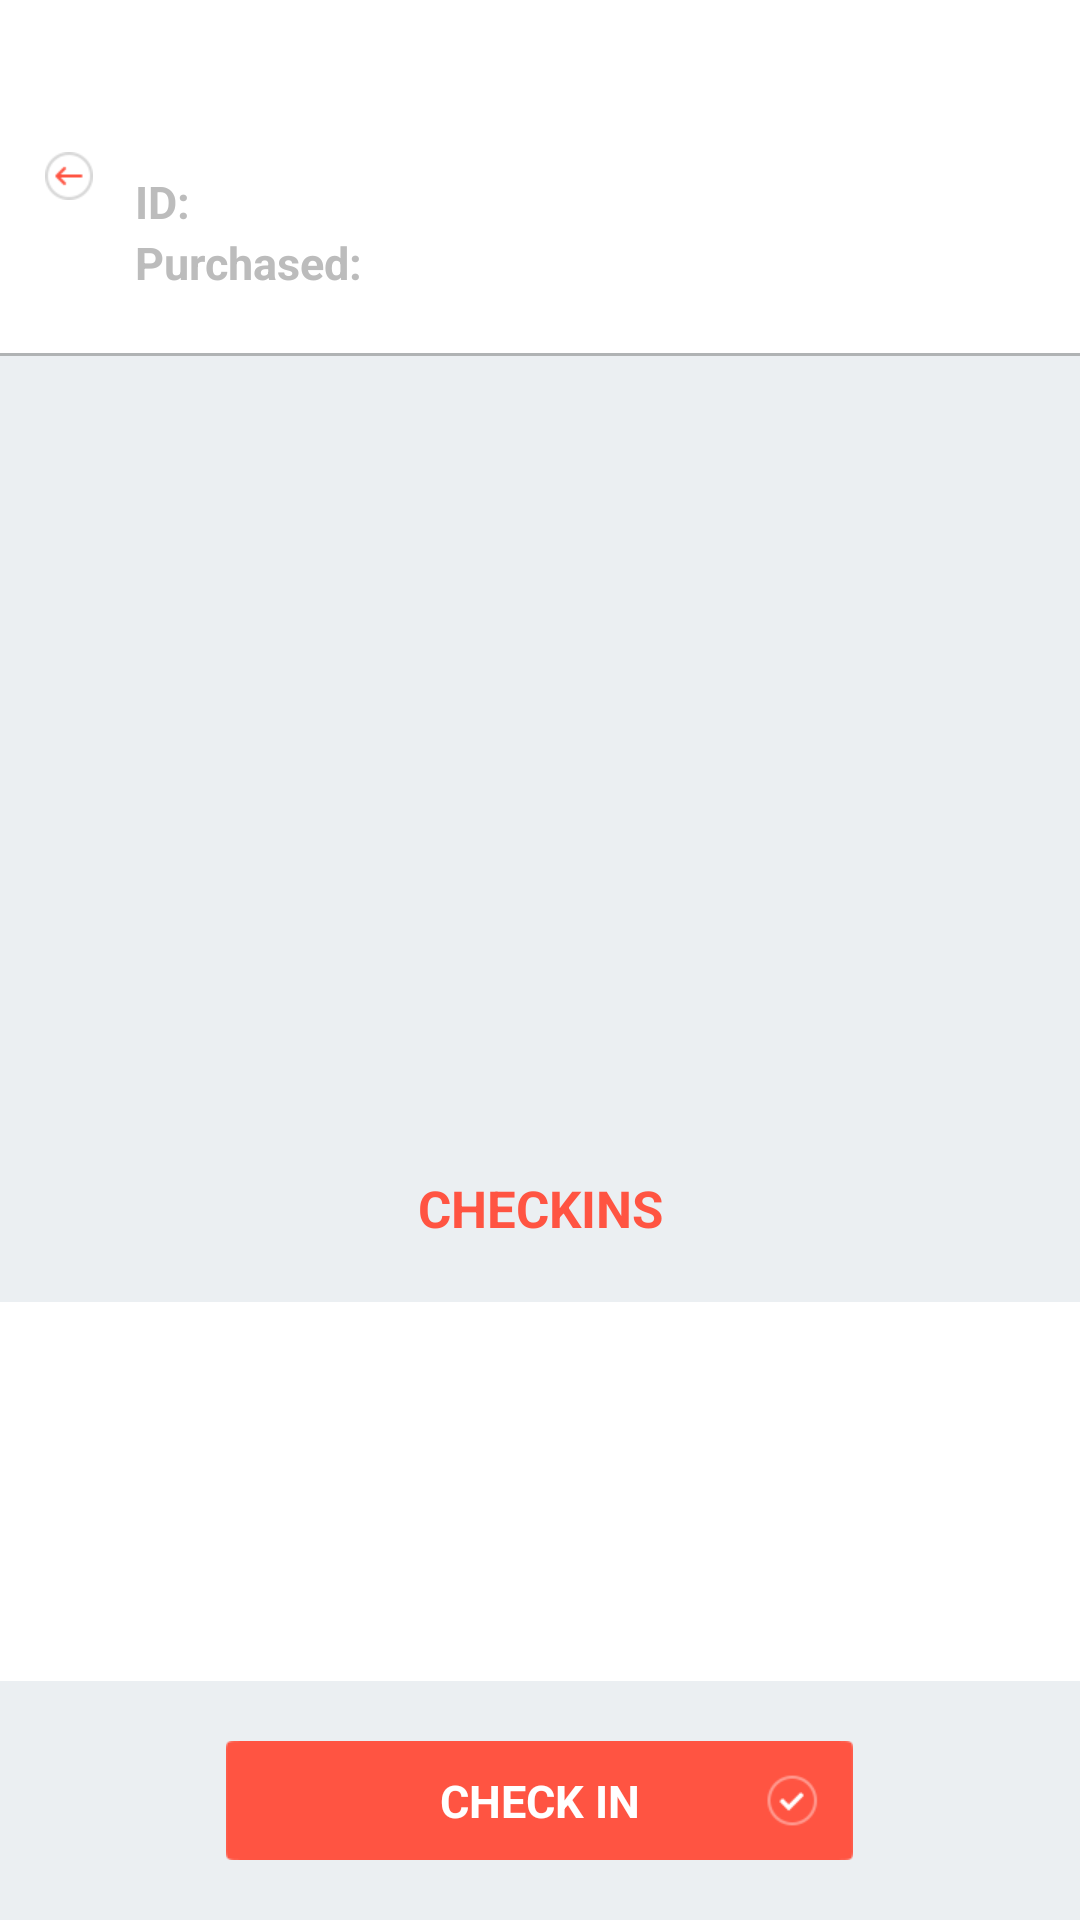

Screen size 1080×1920. Icon name, then its center in pixels as [x,y]:
arrow back: [69,176]
